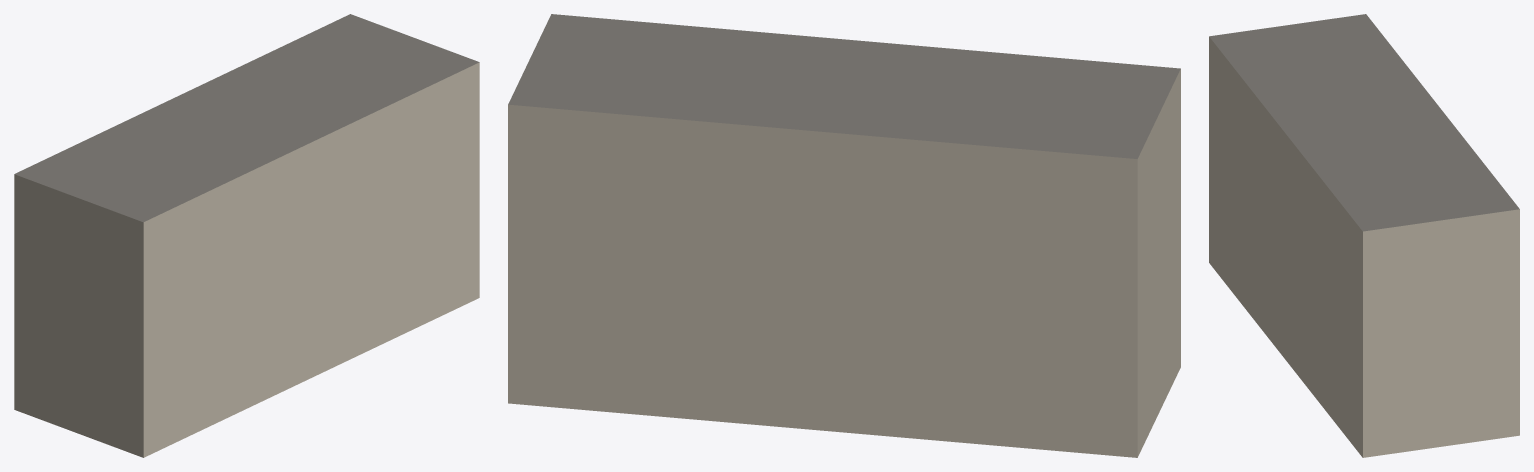
The picture shows the model from 3 angles, left to right: view 1: azimuth 30°, elevation 25°; view 2: azimuth 150°, elevation 25°; view 3: azimuth 270°, elevation 25°; orthographic projection. The views are drawn at different scales.
Parts seen in each view (by area): view 1: HP-w380339920; view 2: HP-w380339920; view 3: HP-w380339920.
Boxes of the visible parts, left/top/right/bottom form: HP-w380339920: left=14, top=14, right=479, bottom=457; HP-w380339920: left=508, top=14, right=1180, bottom=457; HP-w380339920: left=1209, top=14, right=1519, bottom=457.
Size of the model in its own units: 30.91 by 15 by 18.67.
